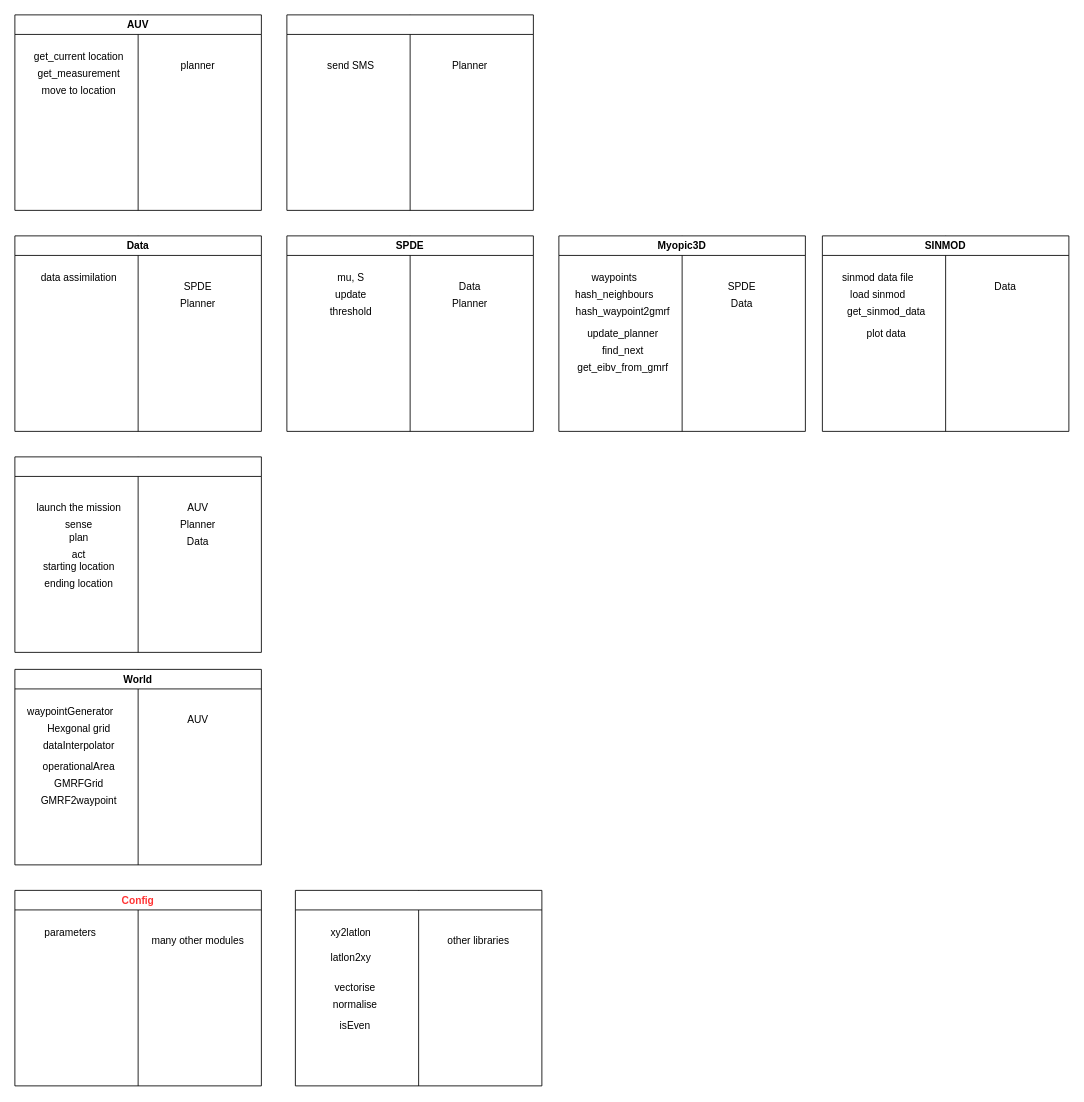
The diagram is 1084 pixels wide and 1102 high, and some of its shapes have lost their labels. Each missing label, with the box of its shape:
Agent: (14, 456, 261, 652)
Message: (286, 14, 533, 210)
usr_func: (295, 890, 542, 1086)
